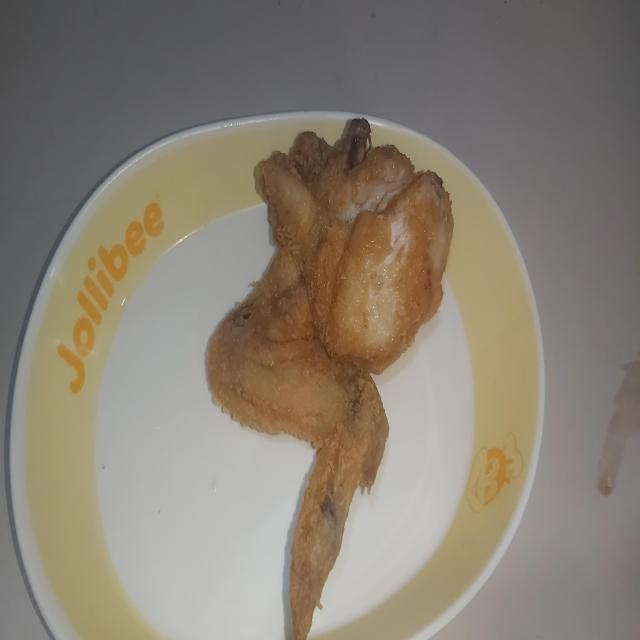Chicken -Fried Chicken-: (216, 102, 443, 640)
